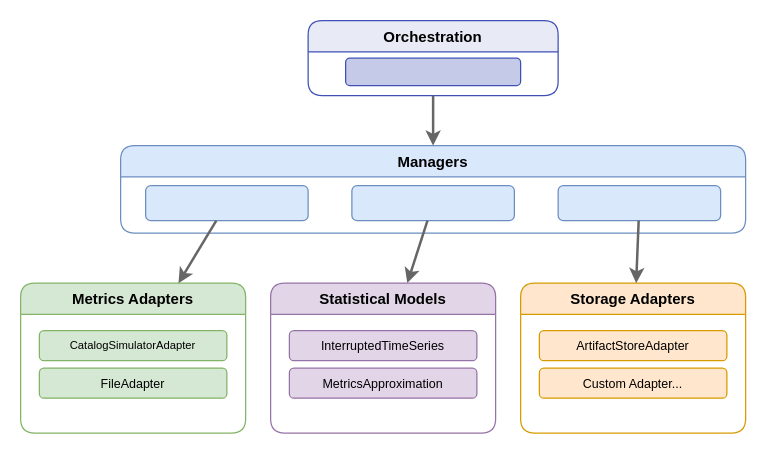
This 766x454 diagram has some shape labels left out. Each missing label, with the centre of its shape:
evaluate_impact: point (432, 71)
MetricsManager: point (226, 202)
ModelsManager: point (432, 202)
StorageManager: point (639, 202)
